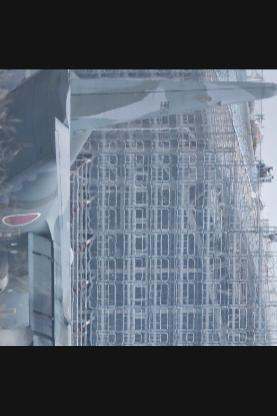Be200: (0, 70, 276, 347)
